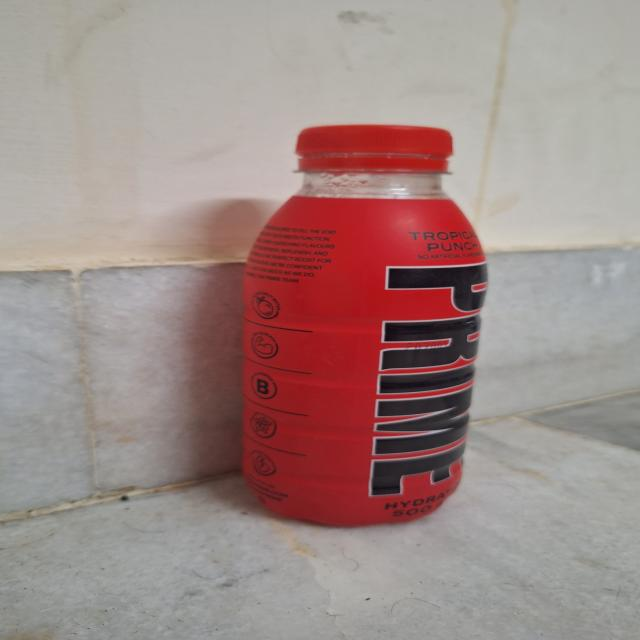Prime - Shitass: (218, 111, 503, 530)
